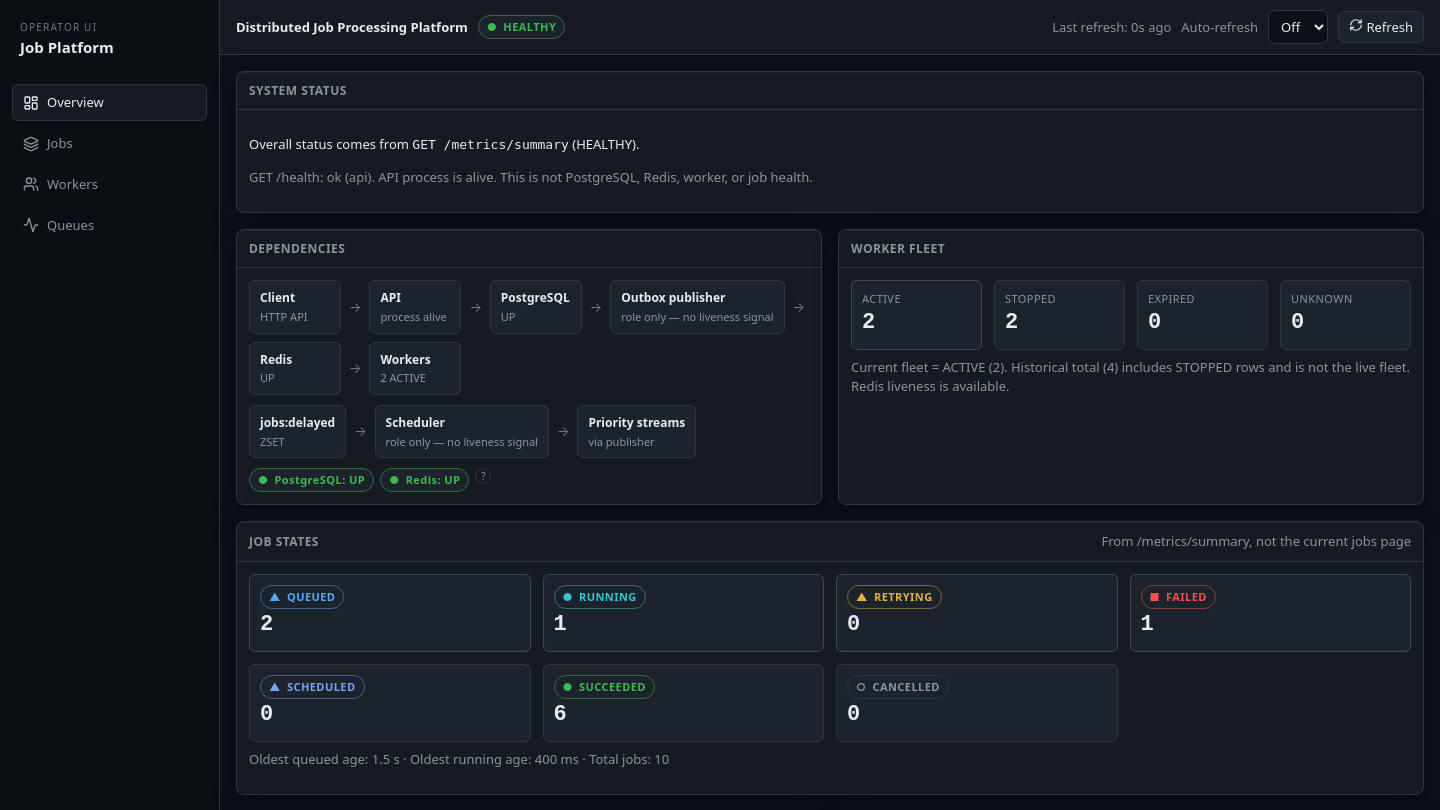
Test: operator dashboard › renders UNKNOWN workers as UNKNOWN, not EXPIRED
Expected: the element with test id "overall-status" shows "HEALTHY", [503,19,556,34]
Click the link "Workers". click: [60, 184]
box: [23,175,98,193]
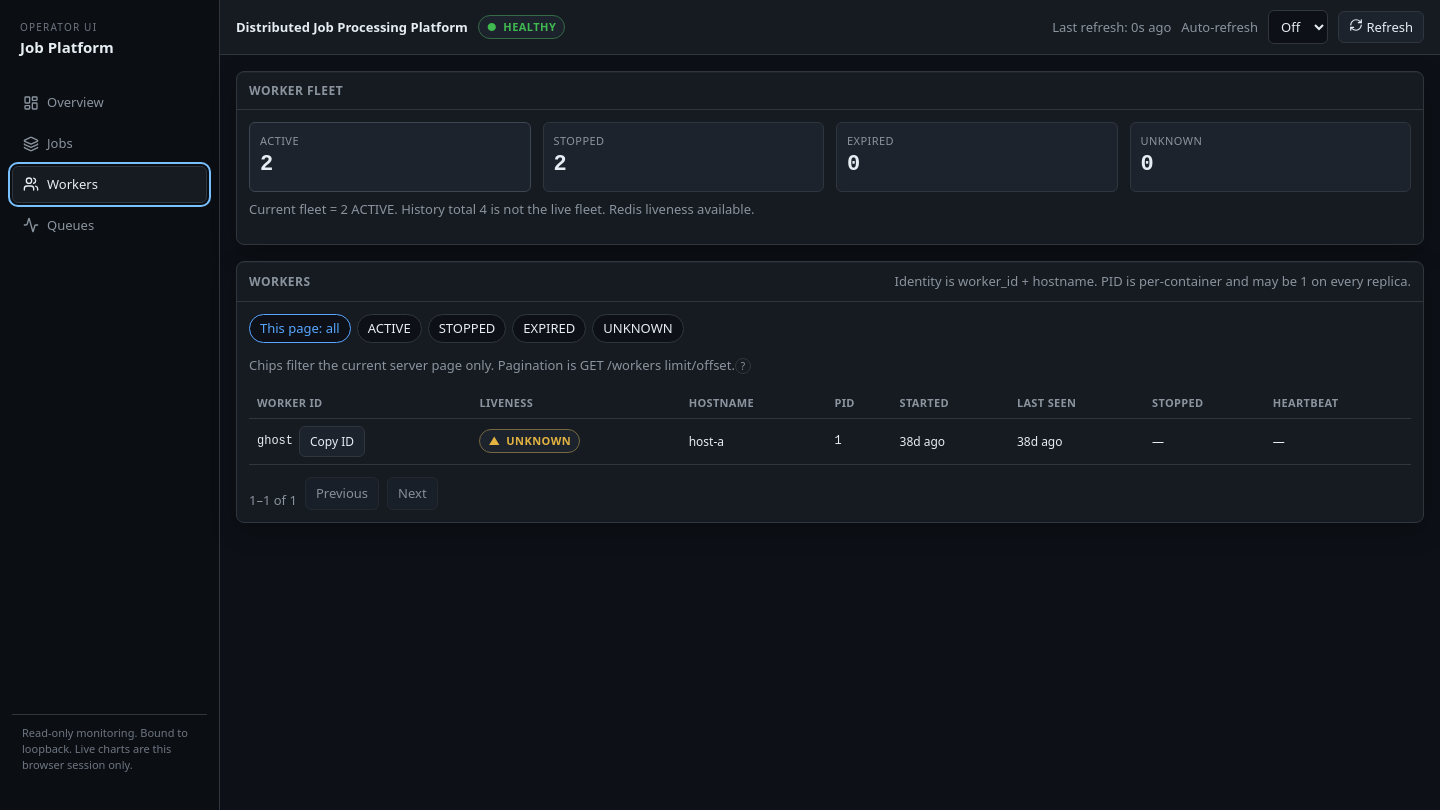
Expected: the table is shown, [249,388,1411,465]
Result: the text "UNKNOWN" in the row of "ghost" is shown at [506,433,571,448]
